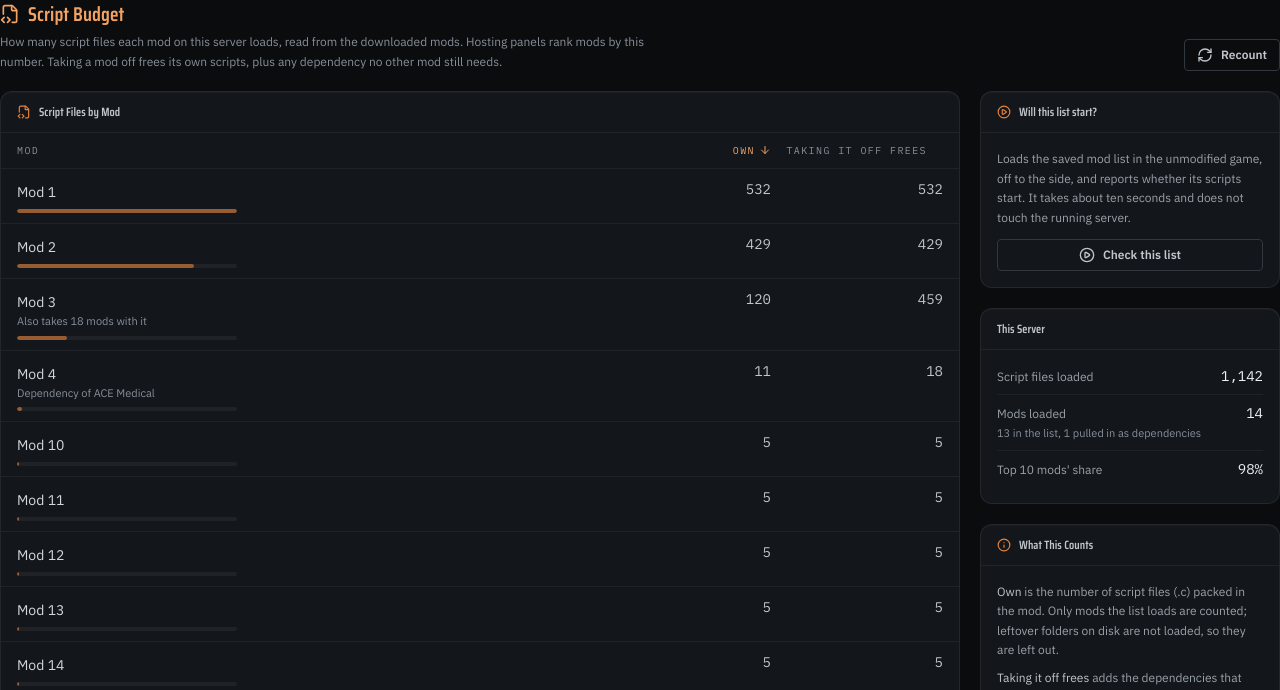
ScriptBudgetModule › shows the compile errors when two mods clash
The image size is (1280, 690).
Expected: the heading "Script Files by Mod" is shown, [17,104,120,120]
Click the button "Check this list".
click(1130, 255)  # box [997,239,1263,271]
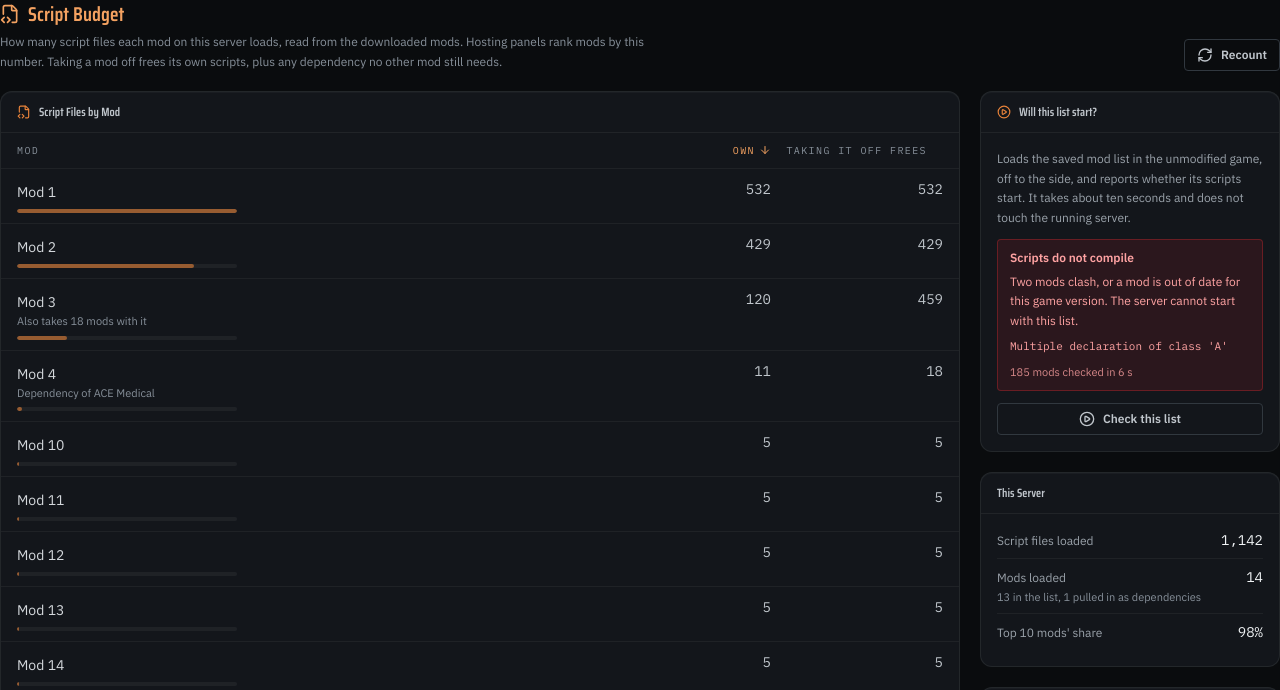
Now the text "Scripts do not compile" is shown, box [1010,250,1134,265]
Now the list item "Multiple declaration of class 'A'" is shown, box [1010,338,1250,356]
